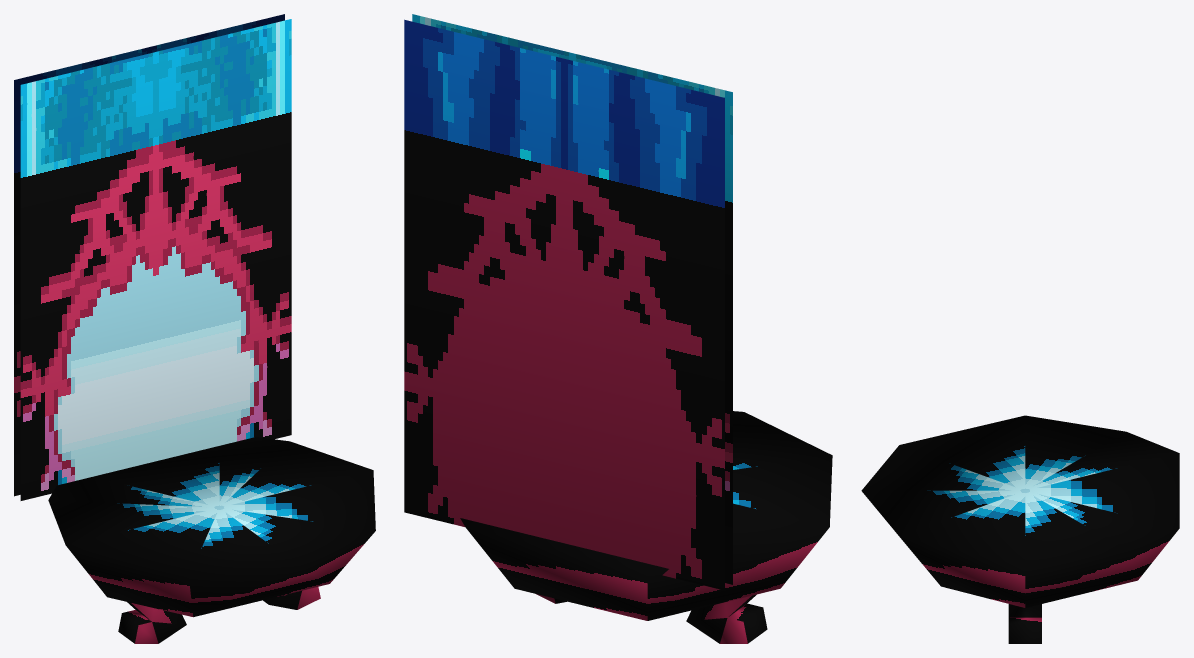
The picture shows the model from 3 angles, left to right: view 1: azimuth 30°, elevation 25°; view 2: azimuth 150°, elevation 25°; view 3: azimuth 270°, elevation 25°; orthographic projection. The views are drawn at different scales.
Visible parts, largest first — view 1: 3202IMFY08_04; view 2: 3202IMFY08_04; view 3: 3202IMFY08_04.
Part boxes in pixels (left/top/right/bottom): 3202IMFY08_04: left=14, top=14, right=375, bottom=643; 3202IMFY08_04: left=404, top=14, right=832, bottom=643; 3202IMFY08_04: left=861, top=415, right=1179, bottom=643.
Bounding box in the file's own units: 0.8945 × 1.45 × 0.7986.
Materials: 2 (2 with a texture image).
